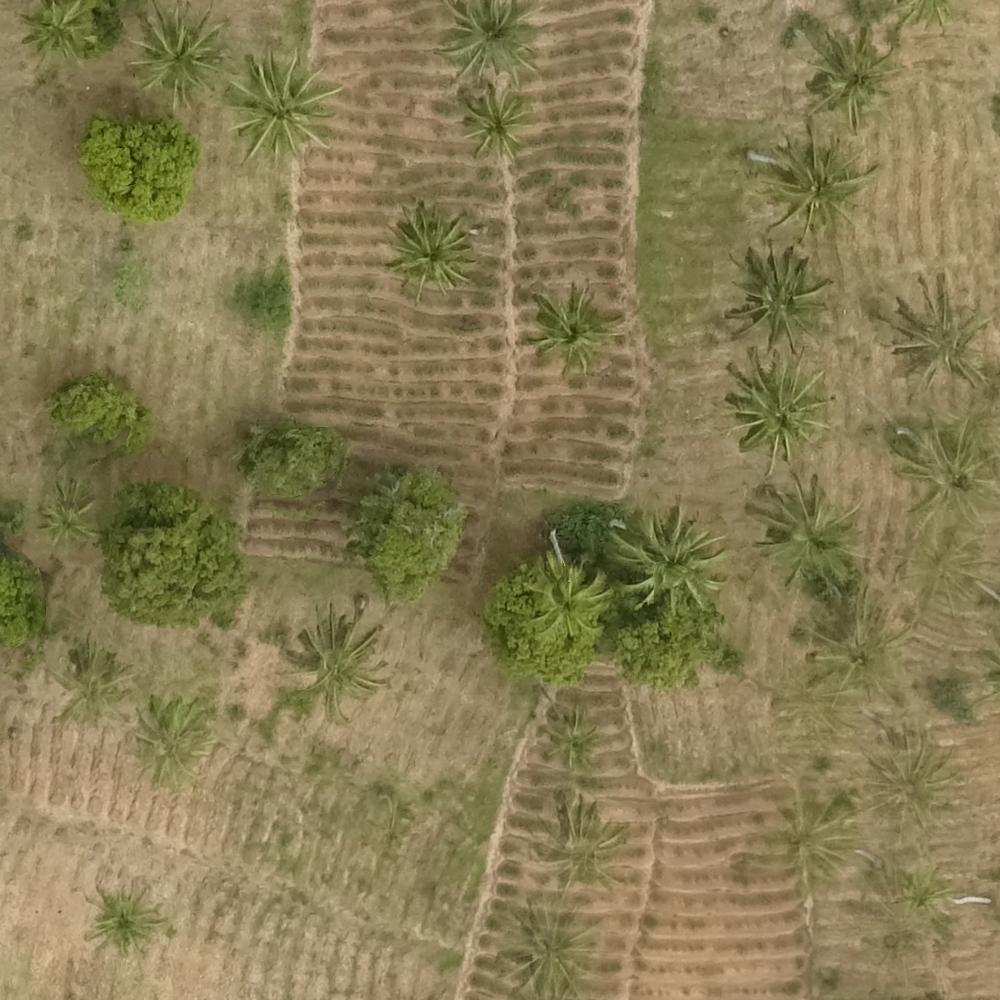Palm: (725, 348, 829, 455), (753, 477, 862, 576), (227, 55, 332, 156), (885, 274, 984, 380), (759, 140, 868, 236), (612, 509, 718, 607), (730, 248, 829, 351), (293, 608, 387, 716), (803, 28, 898, 125), (124, 7, 222, 101), (434, 1, 542, 79), (534, 800, 627, 890), (136, 695, 215, 786), (530, 286, 616, 369), (387, 207, 472, 290), (18, 1, 102, 74), (527, 565, 607, 641), (51, 650, 126, 729), (450, 85, 529, 155), (87, 881, 163, 952), (538, 706, 607, 768), (32, 485, 91, 548)
